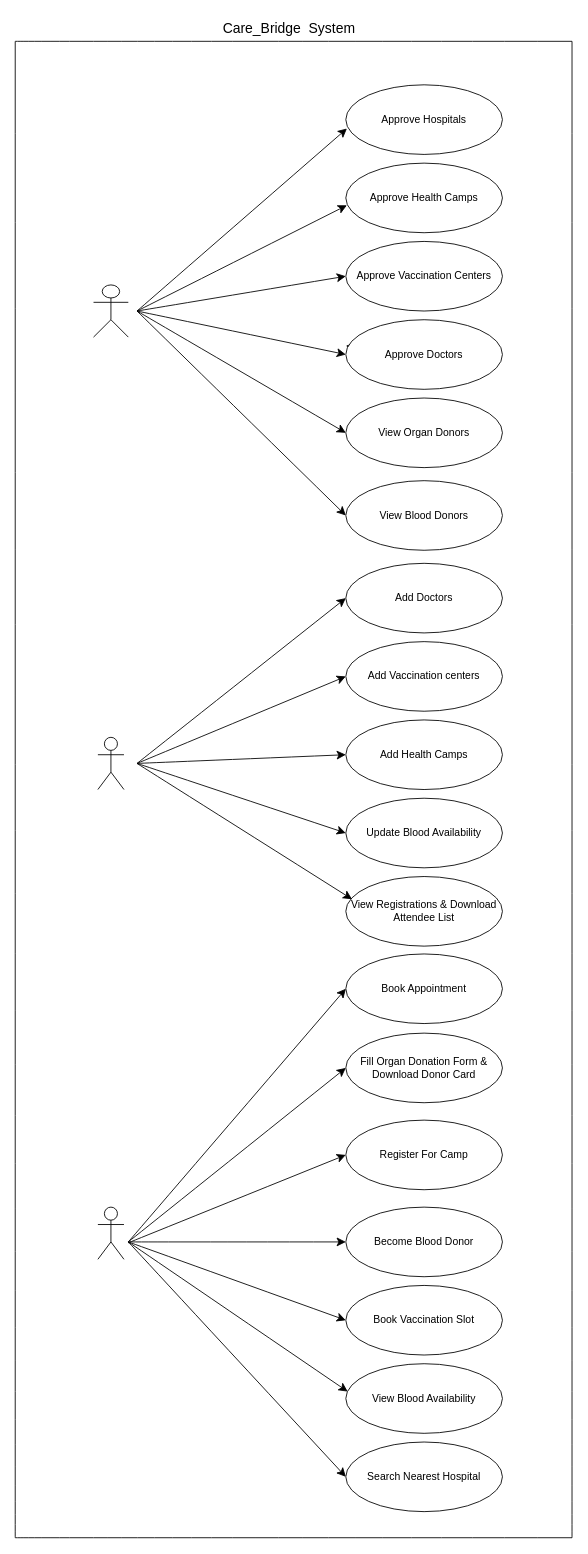
The diagram is 588 pixels wide and 1554 high, and some of its shapes have lost their labels. Each missing label, with the centre of its shape:
Admin: the point at 110,310
Hospital: the point at 110,763
User: the point at 110,1232
